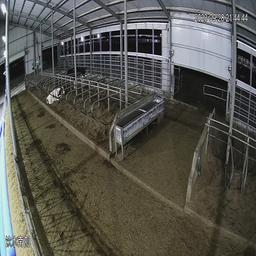cow: (44, 83, 66, 110), (67, 64, 86, 80)
